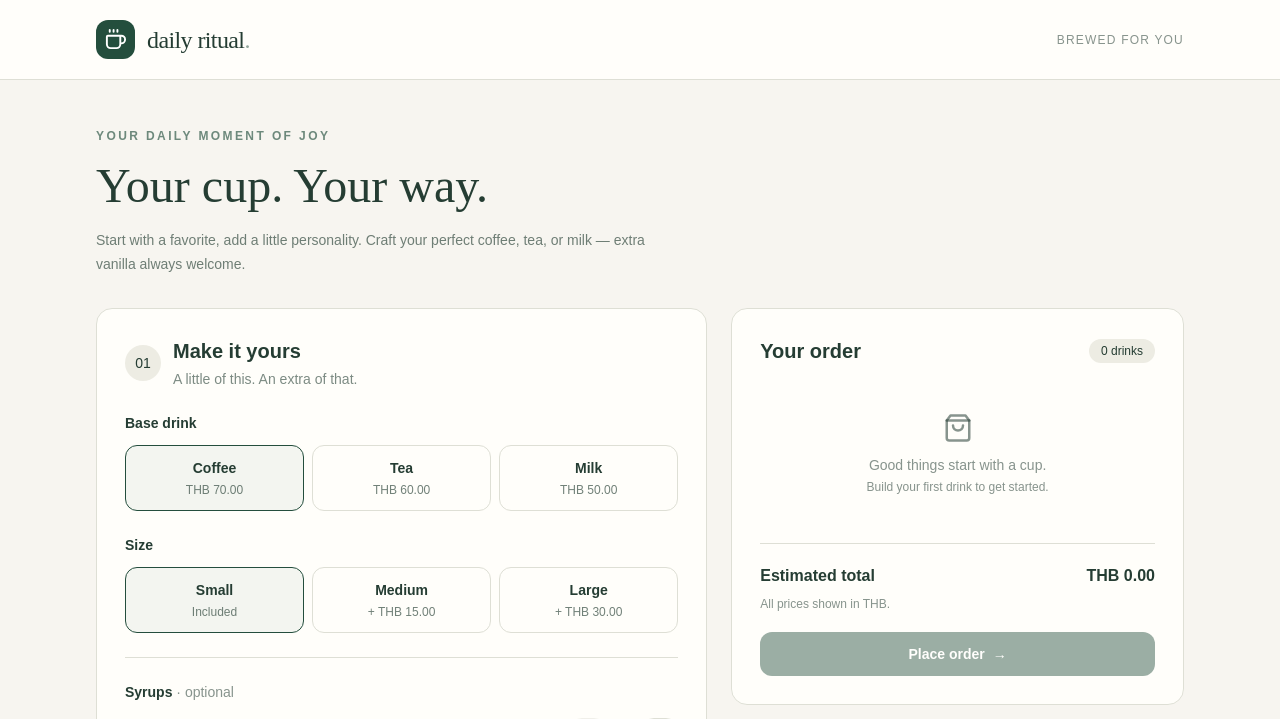
Test: Coffee ordering › selects Milk as base
Expected: the heading "Make it yours" is shown, [173, 340, 301, 362]
Click the radio button labelled "Milk THB 50.00" at [589, 478], box [499, 445, 678, 511]
(page scrolled)
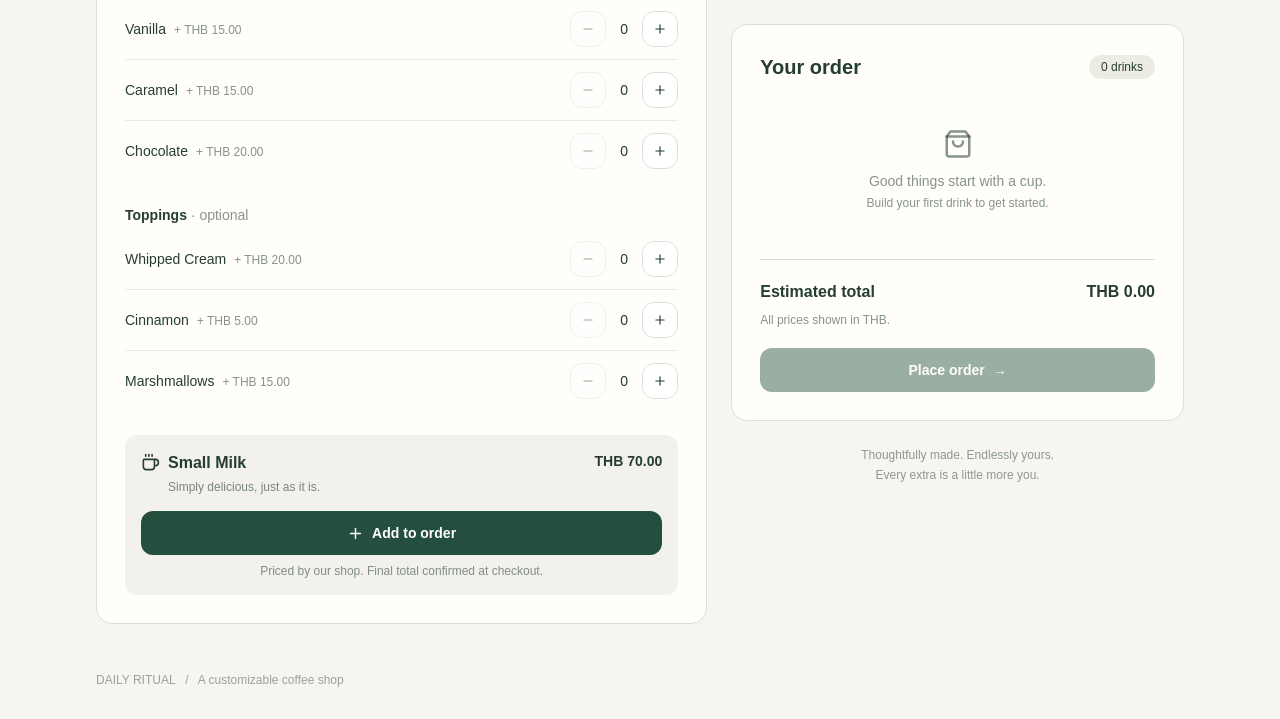
Expected: the heading "Small Milk" is shown, [168, 454, 246, 471]
